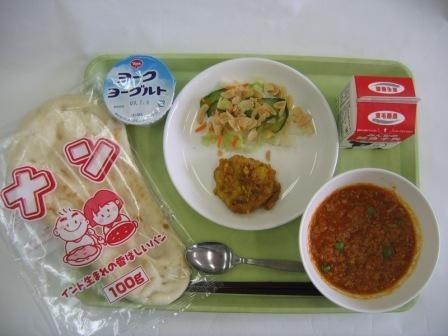Bread: (9, 129, 182, 303)
Cup desserts: (93, 48, 183, 128)
Curry: (299, 163, 443, 308)
Meat: (205, 151, 290, 223)
Milk: (337, 53, 432, 157)
Salad: (185, 65, 309, 145)
